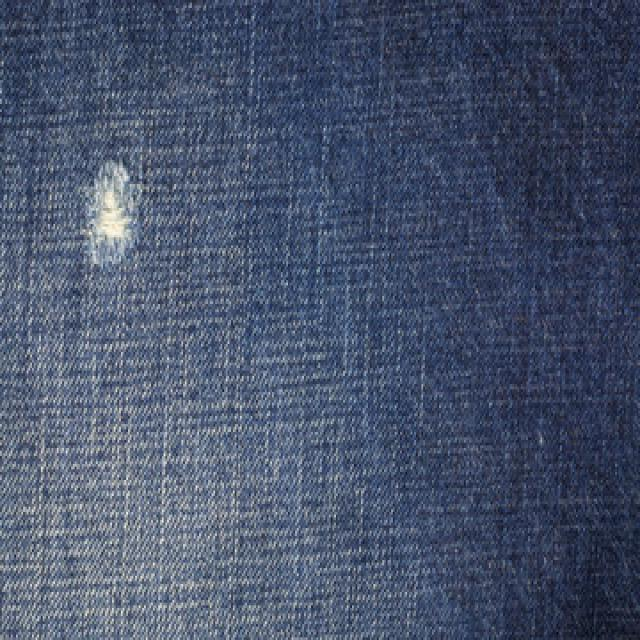Hole: (88, 160, 128, 264)
